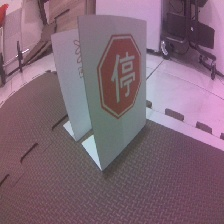stop: (89, 22, 145, 124)
